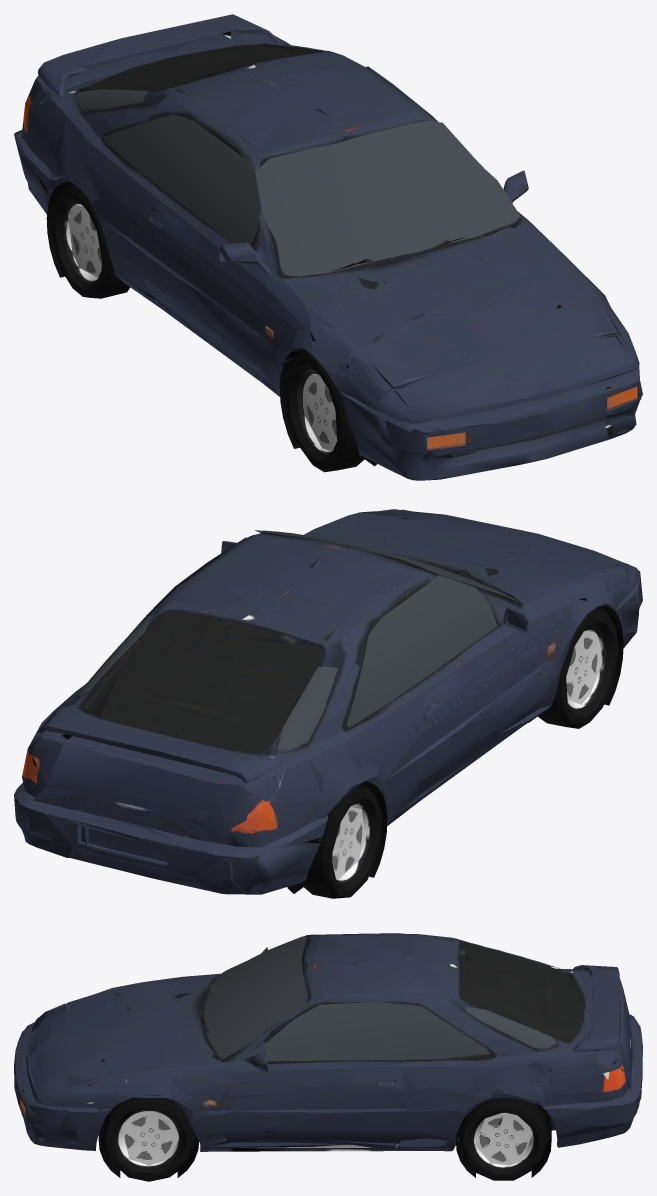
File: coupe.glb
3 renders of one model, top to bottom at view 1: azimuth 30°, elevation 25°; view 2: azimuth 150°, elevation 25°; view 3: azimuth 270°, elevation 25°, orthographic. The views are drawn at different scales.
Parts seen in each view (by area): view 1: body, glass, wheel_fr, wheel_rr; view 2: body, glass, wheel_rr, wheel_fr; view 3: body, glass, wheel_fl, wheel_rl.
Boxes of the visible parts, box(x1,y1,x2,y2) form: body: box(14, 14, 642, 480); glass: box(76, 44, 520, 276); wheel_fr: box(284, 351, 365, 472); wheel_rr: box(52, 184, 129, 298); body: box(14, 509, 642, 894); glass: box(77, 530, 519, 749); wheel_rr: box(301, 785, 382, 898); wheel_fr: box(537, 608, 618, 728); body: box(14, 934, 642, 1177); glass: box(204, 933, 559, 1061); wheel_fl: box(102, 1097, 195, 1181); wheel_rl: box(459, 1098, 548, 1180).
Bounding box in the file's own units: 1.91 × 1.35 × 4.5.
3 materials, 2 textured.
